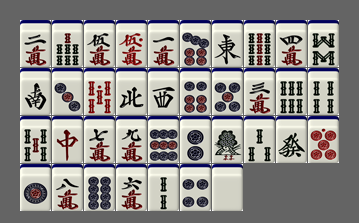0m: (116, 20, 147, 67)
0p: (308, 116, 339, 163)
0s: (84, 68, 115, 115)
1m: (148, 20, 179, 67)
1p: (20, 164, 51, 211)
1s: (212, 116, 243, 163)
1z: (212, 20, 243, 67)
2m: (20, 20, 51, 67)
2p: (180, 116, 211, 163)
2s: (148, 164, 179, 211)
2z: (20, 68, 51, 115)
3m: (244, 68, 275, 115)
3p: (52, 68, 83, 115)
3s: (244, 116, 275, 163)
3z: (148, 68, 179, 115)
4m: (276, 20, 307, 67)
4p: (180, 164, 211, 211)
4s: (308, 68, 339, 115)
4z: (116, 68, 147, 115)
5m: (84, 20, 115, 67)
5p: (212, 68, 243, 115)
5s: (20, 116, 51, 163)
5z: (212, 164, 243, 211)
6m: (116, 164, 147, 211)
6p: (180, 68, 211, 115)
6s: (276, 68, 307, 115)
6z: (276, 116, 307, 163)
7m: (84, 116, 115, 163)
7p: (180, 20, 211, 67)
7s: (52, 20, 83, 67)
7z: (52, 116, 83, 163)
8m: (52, 164, 83, 211)
8p: (84, 164, 115, 211)
8s: (308, 20, 339, 67)
9m: (116, 116, 147, 163)
9p: (148, 116, 179, 163)
9s: (244, 20, 275, 67)
